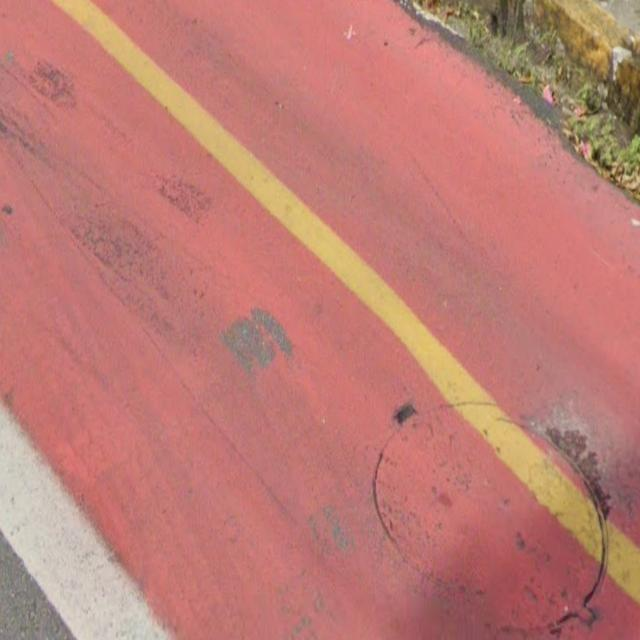Bueiro: (368, 385, 616, 640)
